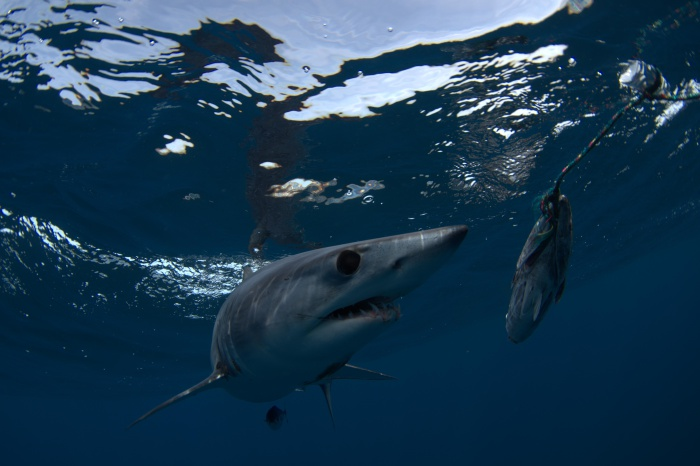Mako: (108, 199, 477, 448)
